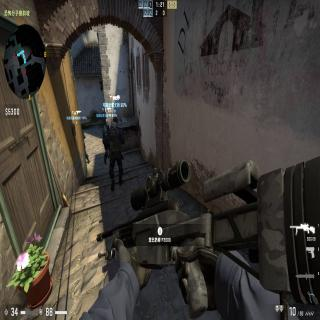CT-Body: (108, 116, 124, 192), (102, 124, 110, 166)
CT-Head: (112, 117, 120, 127), (105, 124, 109, 130)
